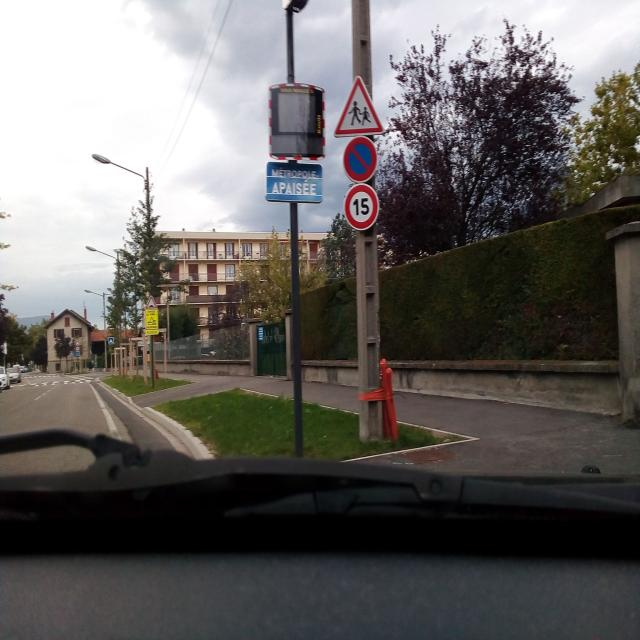forb_stopping: (343, 135, 377, 183)
